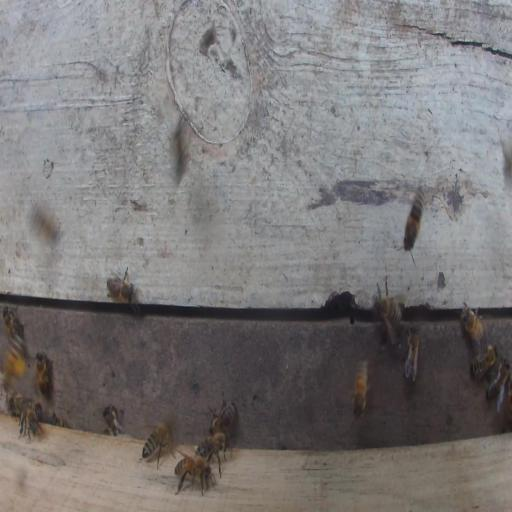nonpollenbee: (374, 280, 405, 347), (174, 455, 216, 496), (141, 422, 175, 469), (403, 186, 425, 252), (198, 433, 227, 474), (106, 265, 136, 304), (460, 303, 484, 351), (209, 395, 236, 436), (403, 324, 421, 384), (470, 342, 498, 380), (486, 361, 510, 402), (353, 360, 368, 419), (18, 407, 42, 443), (35, 350, 53, 397), (2, 305, 24, 342), (102, 404, 124, 437), (7, 392, 33, 416), (213, 482, 214, 485)
pollenbee: (3, 337, 25, 392)
